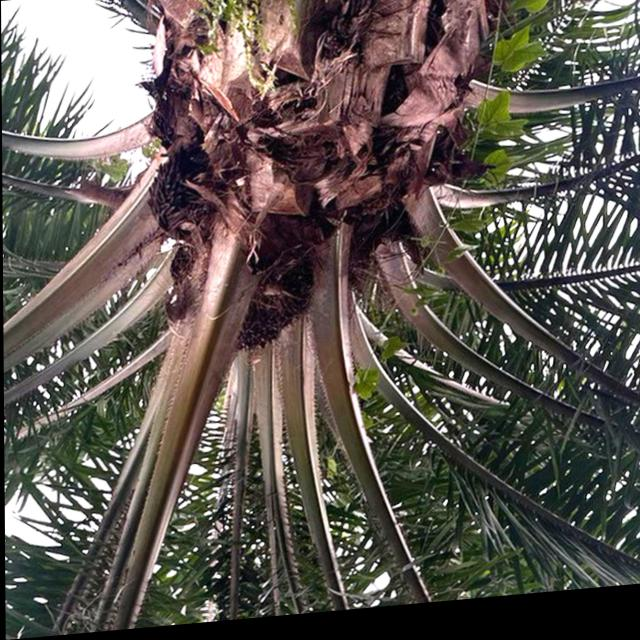ripe: (212, 234, 329, 374)
